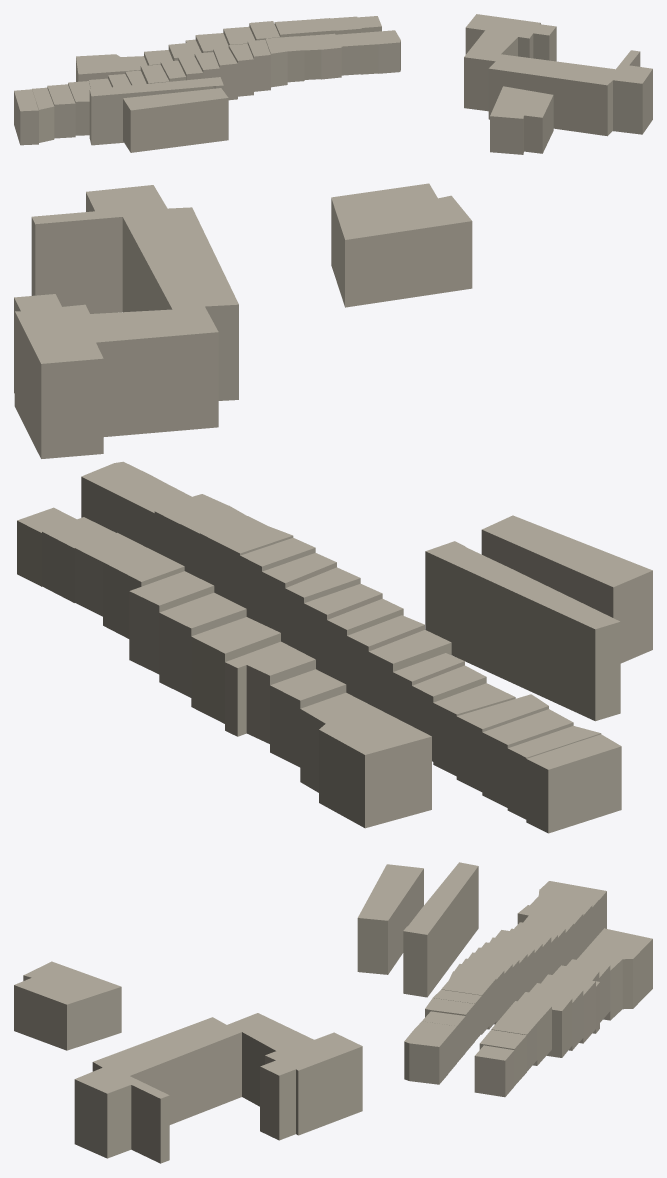
The model's file is kalkara_64_25_collision.glb.
The picture shows the model from 3 angles, top to bottom: view 1: azimuth 30°, elevation 25°; view 2: azimuth 150°, elevation 25°; view 3: azimuth 270°, elevation 25°; orthographic projection. The views are drawn at different scales.
Visible parts, largest first — view 1: geometry_0; view 2: geometry_0; view 3: geometry_0.
Part boxes in pixels (left/top/right/bottom): geometry_0: left=14, top=14, right=652, bottom=154; geometry_0: left=14, top=183, right=652, bottom=833; geometry_0: left=14, top=862, right=652, bottom=1163.
Bounding box in the file's own units: 194 × 42.89 × 180.
